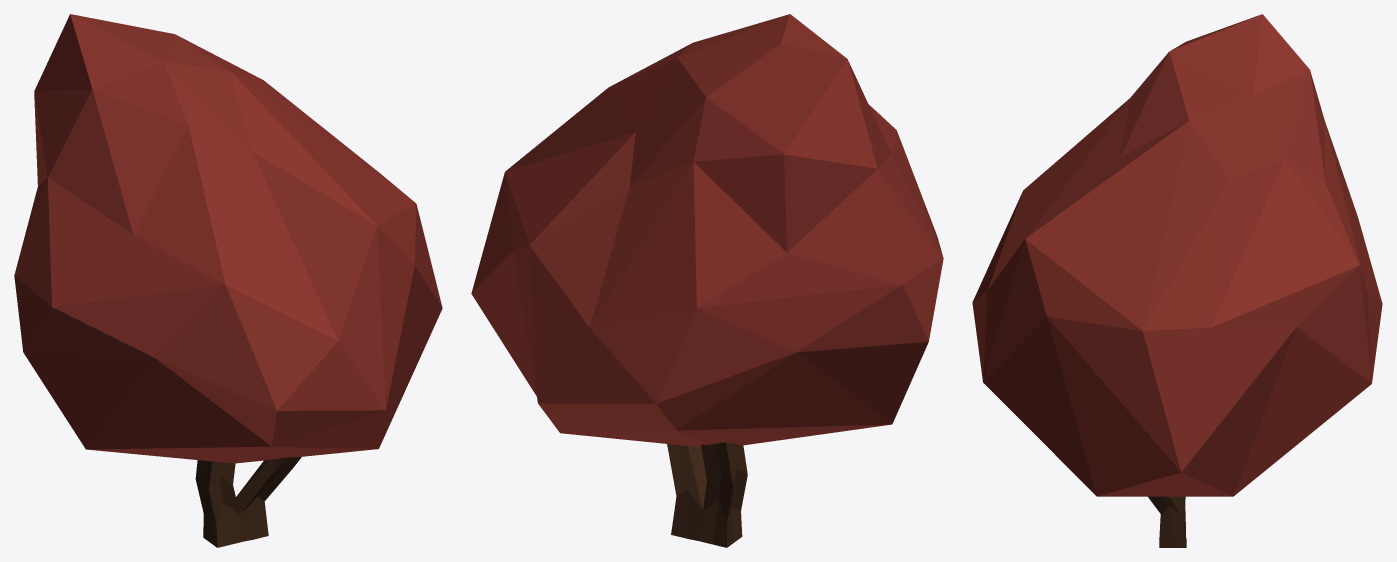
The model's file is Tree_49_Red.fbx.
3 views of the same model, side by side, from view 1: azimuth 30°, elevation 25°; view 2: azimuth 150°, elevation 25°; view 3: azimuth 270°, elevation 25° (orthographic). The views are drawn at different scales.
Parts seen in each view (by area): view 1: Tree_49_Red_Part_1, Tree_49_Red_Part_2; view 2: Tree_49_Red_Part_1, Tree_49_Red_Part_2; view 3: Tree_49_Red_Part_1, Tree_49_Red_Part_2.
Boxes of the visible parts, x1,y1,x2,y2 form: Tree_49_Red_Part_1: [14, 14, 442, 463]; Tree_49_Red_Part_2: [195, 457, 301, 547]; Tree_49_Red_Part_1: [471, 14, 943, 447]; Tree_49_Red_Part_2: [667, 442, 747, 547]; Tree_49_Red_Part_1: [972, 14, 1382, 496]; Tree_49_Red_Part_2: [1148, 496, 1186, 547].
Bounding box in the file's own units: 654 × 768 × 606.
